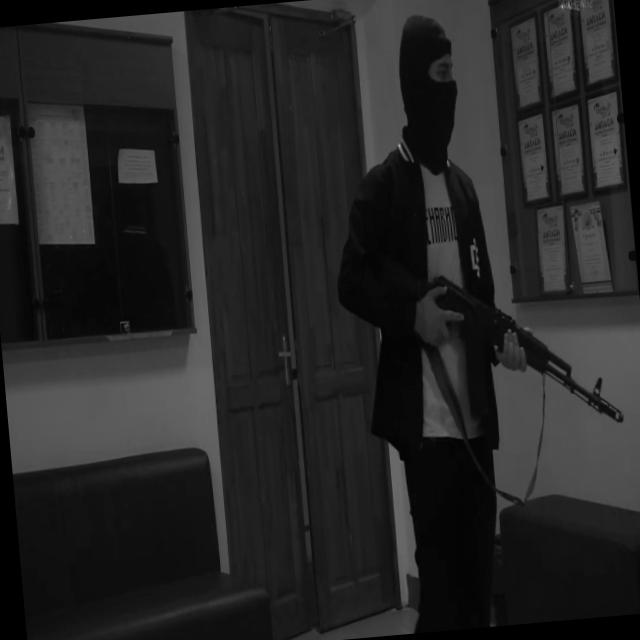gun: (373, 228, 625, 444)
person with a gun: (313, 0, 640, 637)
